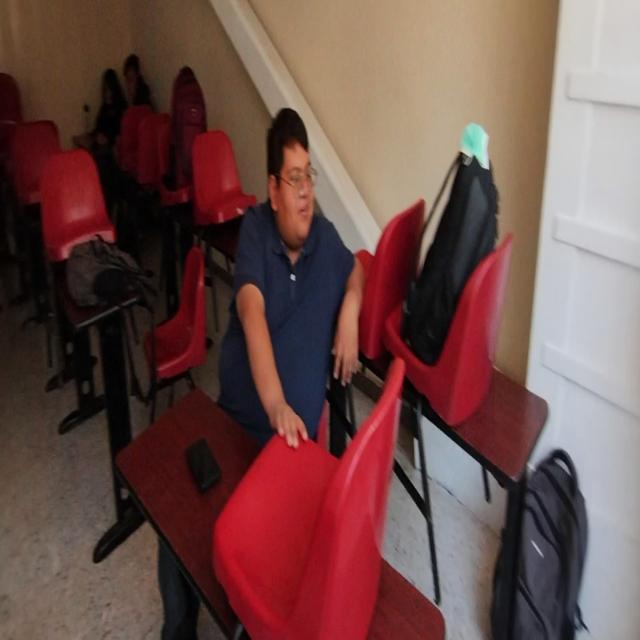adult: (218, 106, 362, 446)
